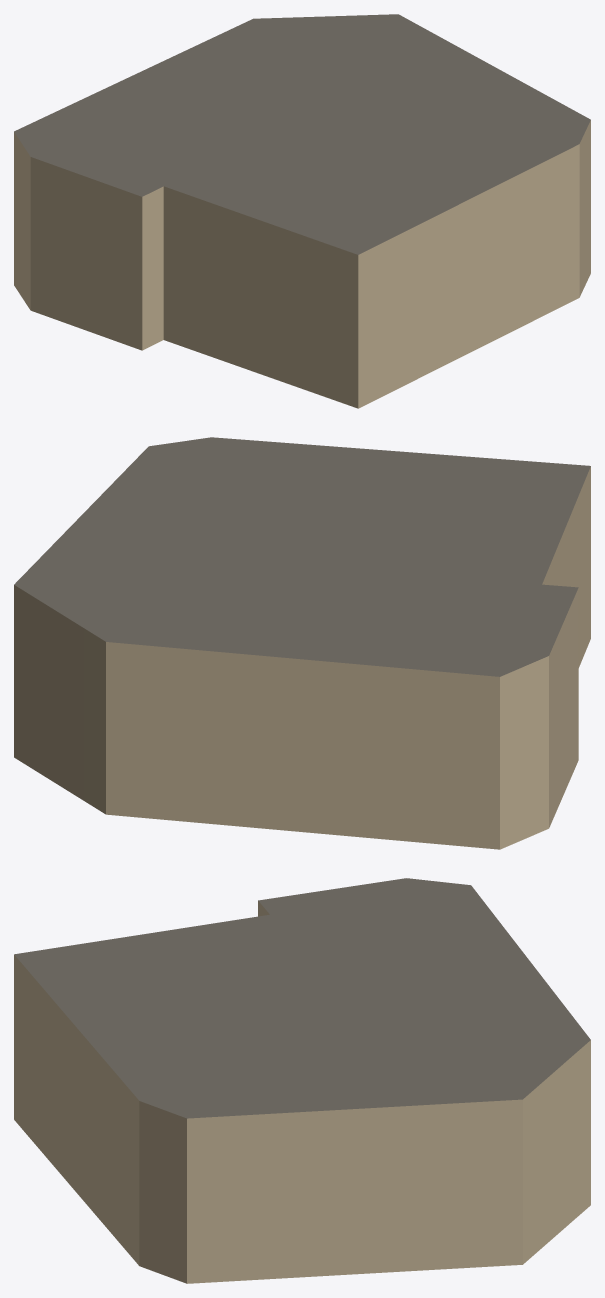
3 renders of one model, top to bottom at view 1: azimuth 30°, elevation 25°; view 2: azimuth 150°, elevation 25°; view 3: azimuth 270°, elevation 25°, orthographic. The views are drawn at different scales.
Parts seen in each view (by area): view 1: HP-w378107239; view 2: HP-w378107239; view 3: HP-w378107239.
Part boxes in pixels (x1,y1,x2,y2): HP-w378107239: (14, 14, 590, 408); HP-w378107239: (14, 437, 590, 849); HP-w378107239: (14, 878, 590, 1283).
Size of the model in its own units: 82.35 by 26.4 by 83.52.
